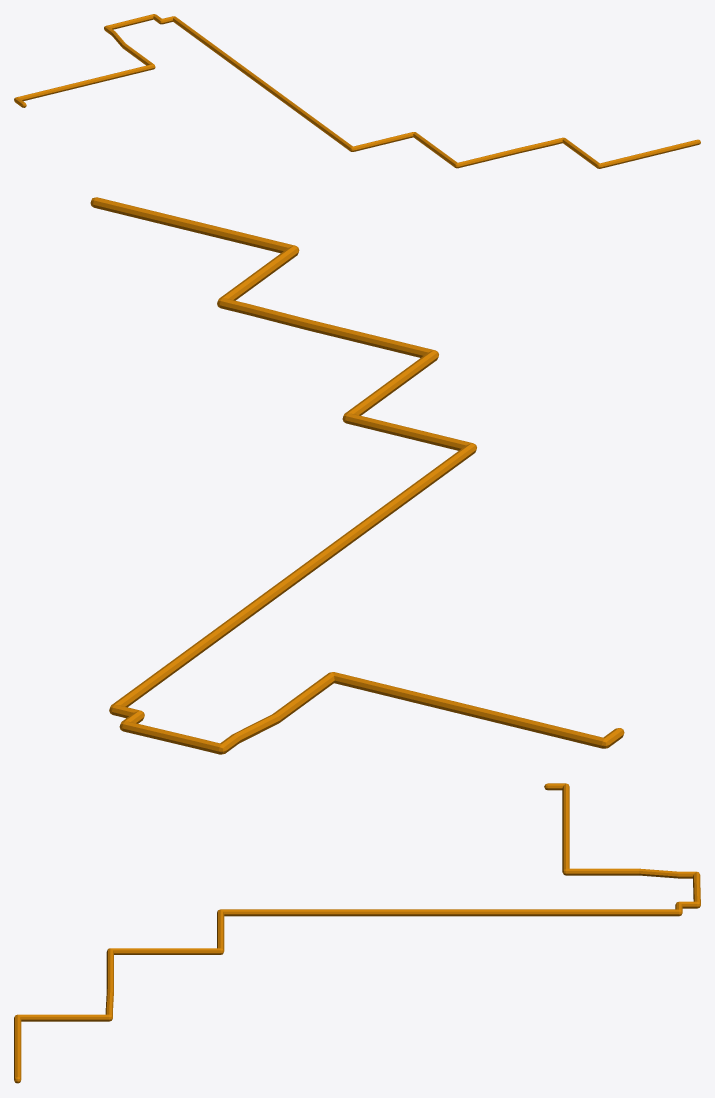
3 renders of one model, top to bottom at view 1: azimuth 30°, elevation 25°; view 2: azimuth 150°, elevation 25°; view 3: azimuth 270°, elevation 25°, orthographic. The views are drawn at different scales.
Size of the model in its own units: 1912 by 20 by 1873.
